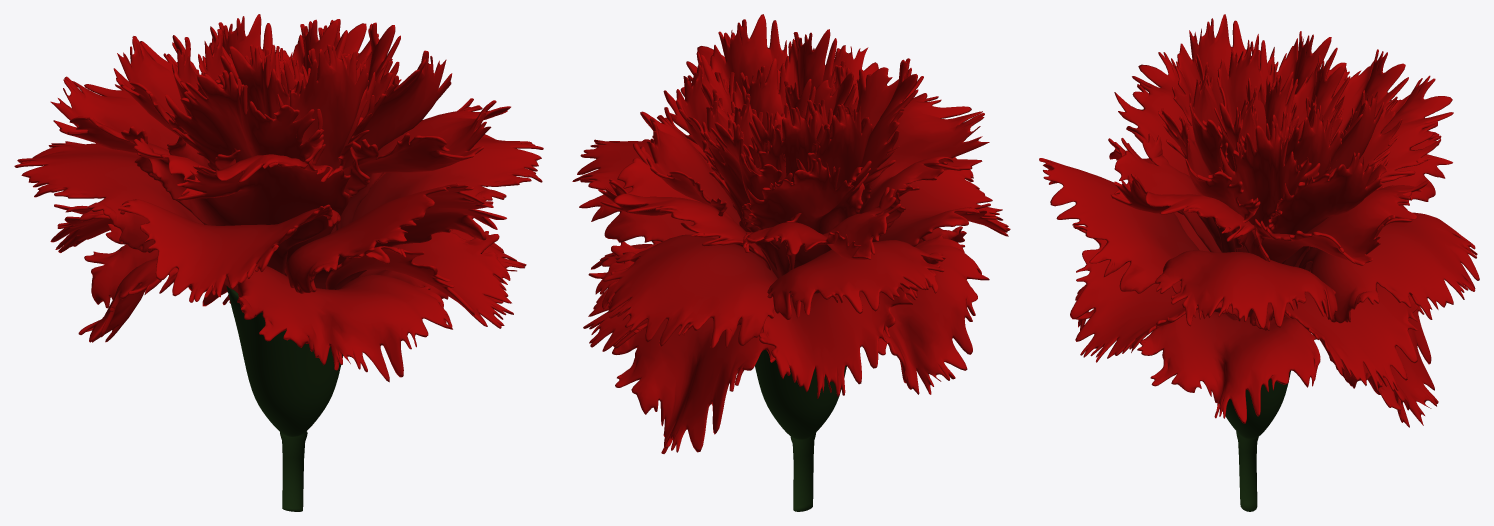
File: Espana_Carnation.glb
3 renders of one model, left to right at view 1: azimuth 30°, elevation 25°; view 2: azimuth 150°, elevation 25°; view 3: azimuth 270°, elevation 25°, orthographic. The views are drawn at different scales.
Visible parts, largest first — view 1: Plane069.020, Vert; view 2: Plane069.020, Vert; view 3: Plane069.020, Vert.
Part boxes in pixels (x1=…): Plane069.020: x1=14, y1=14, x2=543, y2=382; Vert: x1=226, y1=285, x2=342, y2=511; Plane069.020: x1=572, y1=14, x2=1010, y2=453; Vert: x1=755, y1=350, x2=846, y2=511; Plane069.020: x1=1039, y1=14, x2=1479, y2=427; Vert: x1=1222, y1=371, x2=1290, y2=511.
Bounding box in the file's own units: 0.871 × 0.9259 × 0.8136.
Materials: 2 (2 with a texture image).
